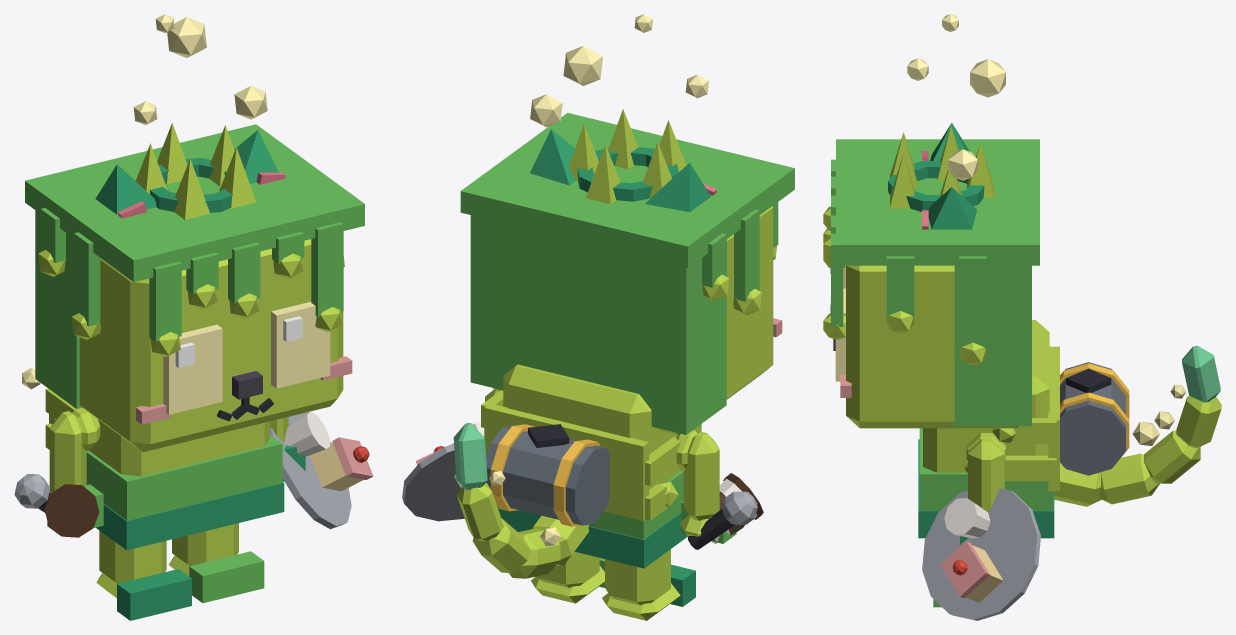
Rendered from CatCafe_Cat_Ooze_Work.glb.
The picture shows the model from 3 angles, left to right: view 1: azimuth 30°, elevation 25°; view 2: azimuth 150°, elevation 25°; view 3: azimuth 270°, elevation 25°; orthographic projection. The views are drawn at different scales.
Parts seen in each view (by area): view 1: CatCafe_Cat_Ooze_Work_Prop, CatCafe_Cat_Ooze_Work_Head, CatCafe_Cat_Ooze_Work_Body, CatCafe_Cat_Ooze_Work_Glow, CatCafe_Cat_Ooze_Work_Held_Waiter, CatCafe_Cat_Ooze_Work_LegB2, CatCafe_Cat_Ooze_Work_LegB1, CatCafe_Cat_Ooze_Work_Eye2, CatCafe_Cat_Ooze_Work_Eye1, CatCafe_Cat_Ooze_Work_LegF2, CatCafe_Cat_Ooze_Work_Held_Barista, CatCafe_Cat_Ooze_Work_EarR (+4 smaller); view 2: CatCafe_Cat_Ooze_Work_Head, CatCafe_Cat_Ooze_Work_Prop, CatCafe_Cat_Ooze_Work_Body, CatCafe_Cat_Ooze_Work_Prop2, CatCafe_Cat_Ooze_Work_Glow, CatCafe_Cat_Ooze_Work_Tail, CatCafe_Cat_Ooze_Work_Spill_Glow, CatCafe_Cat_Ooze_Work_LegB2, CatCafe_Cat_Ooze_Work_Held_Waiter, CatCafe_Cat_Ooze_Work_LegF2, CatCafe_Cat_Ooze_Work_LegB1, CatCafe_Cat_Ooze_Work_EarR (+3 smaller); view 3: CatCafe_Cat_Ooze_Work_Head, CatCafe_Cat_Ooze_Work_Prop, CatCafe_Cat_Ooze_Work_Held_Waiter, CatCafe_Cat_Ooze_Work_Tail, CatCafe_Cat_Ooze_Work_Body, CatCafe_Cat_Ooze_Work_Glow, CatCafe_Cat_Ooze_Work_Prop2, CatCafe_Cat_Ooze_Work_Spill_Glow, CatCafe_Cat_Ooze_Work_LegF1, CatCafe_Cat_Ooze_Work_EarL, CatCafe_Cat_Ooze_Work_Eye1.
Part boxes in pixels (bbox=[...]): CatCafe_Cat_Ooze_Work_Prop: bbox=[25, 124, 364, 342]; CatCafe_Cat_Ooze_Work_Head: bbox=[35, 210, 352, 452]; CatCafe_Cat_Ooze_Work_Body: bbox=[72, 408, 284, 550]; CatCafe_Cat_Ooze_Work_Glow: bbox=[38, 14, 344, 357]; CatCafe_Cat_Ooze_Work_Held_Waiter: bbox=[270, 411, 373, 529]; CatCafe_Cat_Ooze_Work_LegB2: bbox=[96, 530, 191, 620]; CatCafe_Cat_Ooze_Work_LegB1: bbox=[169, 523, 264, 603]; CatCafe_Cat_Ooze_Work_Eye2: bbox=[163, 324, 222, 414]; CatCafe_Cat_Ooze_Work_Eye1: bbox=[271, 301, 330, 388]; CatCafe_Cat_Ooze_Work_LegF2: bbox=[47, 411, 103, 535]; CatCafe_Cat_Ooze_Work_Held_Barista: bbox=[44, 484, 99, 537]; CatCafe_Cat_Ooze_Work_EarR: bbox=[95, 164, 156, 218]; CatCafe_Cat_Ooze_Work_Head: bbox=[470, 206, 782, 434]; CatCafe_Cat_Ooze_Work_Prop: bbox=[460, 113, 794, 301]; CatCafe_Cat_Ooze_Work_Body: bbox=[497, 364, 701, 568]; CatCafe_Cat_Ooze_Work_Prop2: bbox=[486, 424, 609, 526]; CatCafe_Cat_Ooze_Work_Glow: bbox=[530, 14, 776, 315]; CatCafe_Cat_Ooze_Work_Tail: bbox=[453, 423, 588, 578]; CatCafe_Cat_Ooze_Work_Spill_Glow: bbox=[454, 390, 680, 546]; CatCafe_Cat_Ooze_Work_LegB2: bbox=[602, 549, 695, 620]; CatCafe_Cat_Ooze_Work_Held_Waiter: bbox=[402, 421, 484, 521]; CatCafe_Cat_Ooze_Work_LegF2: bbox=[680, 431, 736, 543]; CatCafe_Cat_Ooze_Work_LegB1: bbox=[531, 551, 604, 603]; CatCafe_Cat_Ooze_Work_EarR: bbox=[645, 162, 716, 212]; CatCafe_Cat_Ooze_Work_Head: bbox=[833, 265, 1031, 428]; CatCafe_Cat_Ooze_Work_Prop: bbox=[831, 139, 1039, 349]; CatCafe_Cat_Ooze_Work_Held_Waiter: bbox=[922, 488, 1040, 620]; CatCafe_Cat_Ooze_Work_Tail: bbox=[1054, 345, 1221, 506]; CatCafe_Cat_Ooze_Work_Body: bbox=[918, 320, 1054, 538]; CatCafe_Cat_Ooze_Work_Glow: bbox=[823, 14, 1005, 365]; CatCafe_Cat_Ooze_Work_Prop2: bbox=[1060, 362, 1129, 475]; CatCafe_Cat_Ooze_Work_Spill_Glow: bbox=[964, 346, 1186, 491]; CatCafe_Cat_Ooze_Work_LegF1: bbox=[960, 438, 1004, 544]; CatCafe_Cat_Ooze_Work_EarL: bbox=[922, 187, 976, 229]; CatCafe_Cat_Ooze_Work_Eye1: bbox=[830, 288, 845, 381].
Bounding box in the file's own units: 1.53 × 2.52 × 1.64.
Materials: 1 (1 with a texture image).
